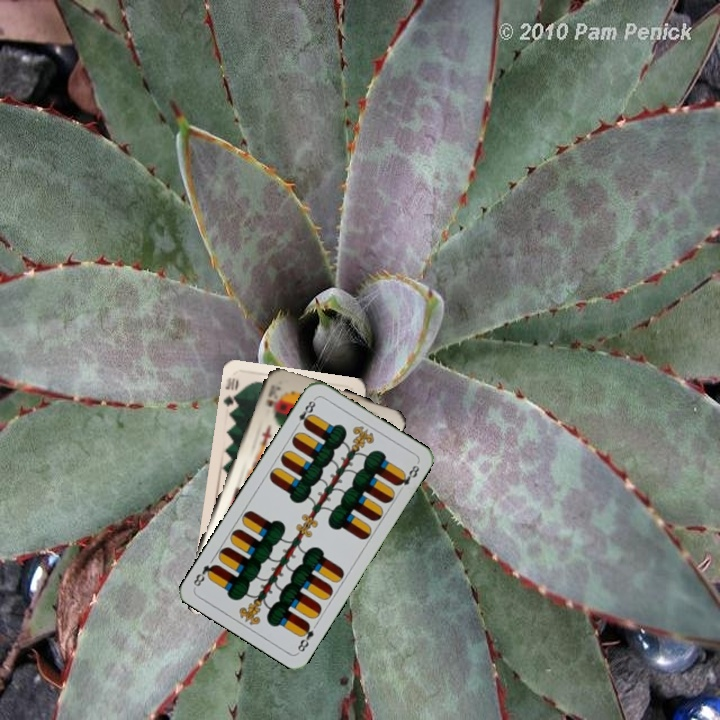E8: (291, 394, 319, 430), (293, 619, 317, 655)
G10: (220, 373, 241, 414)
SK: (263, 382, 284, 416)
